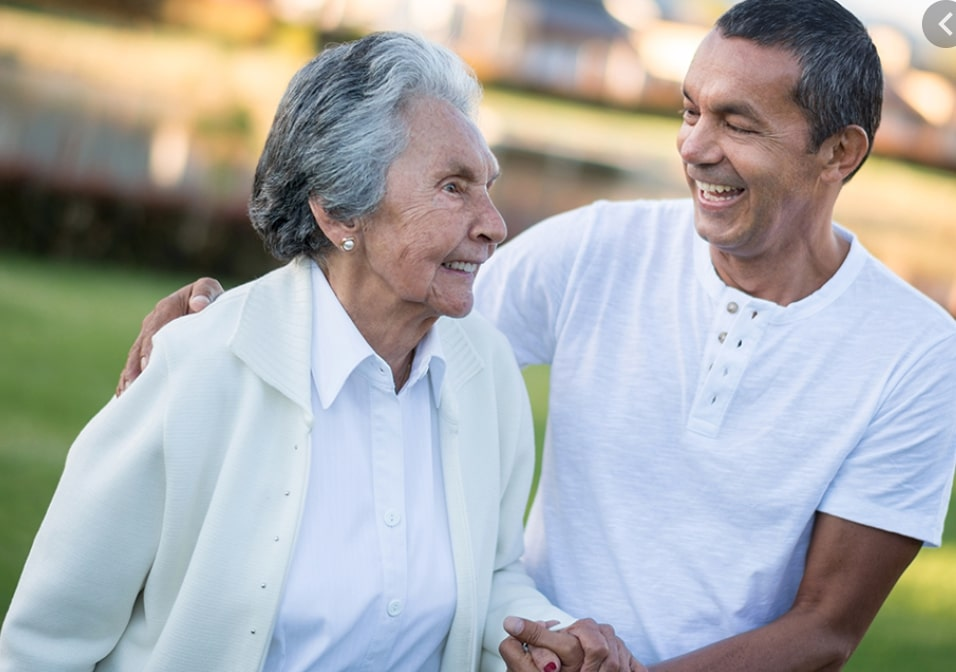Bad: (2, 1, 951, 672)
